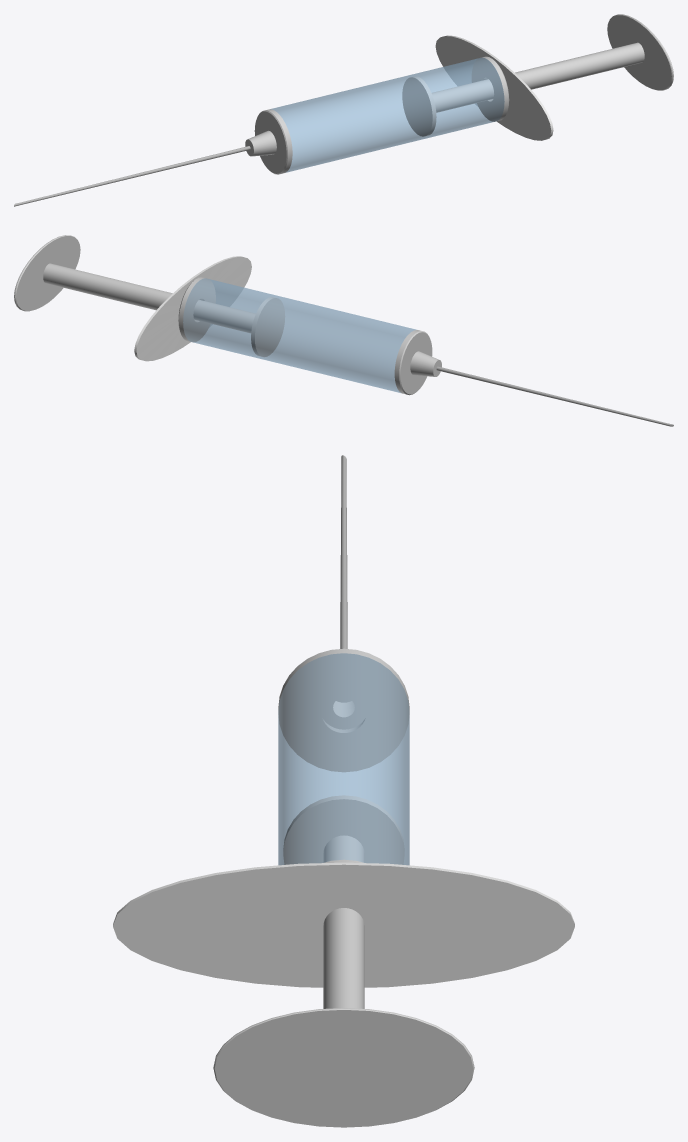
Rendered from şırıngaam 1.fbx.
3 renders of one model, top to bottom at view 1: azimuth 30°, elevation 25°; view 2: azimuth 150°, elevation 25°; view 3: azimuth 270°, elevation 25°, orthographic. The views are drawn at different scales.
Parts seen in each view (by area): view 1: Object_5; view 2: Object_5; view 3: Object_5.
Part boxes in pixels (x1=…): Object_5: x1=14, y1=14, x2=673, y2=206; Object_5: x1=14, y1=235, x2=673, y2=426; Object_5: x1=113, y1=455, x2=574, y2=1127.
Size of the model in its own units: 1169 by 110 by 373.
